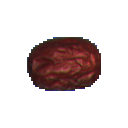gd: (22, 28, 109, 102)
